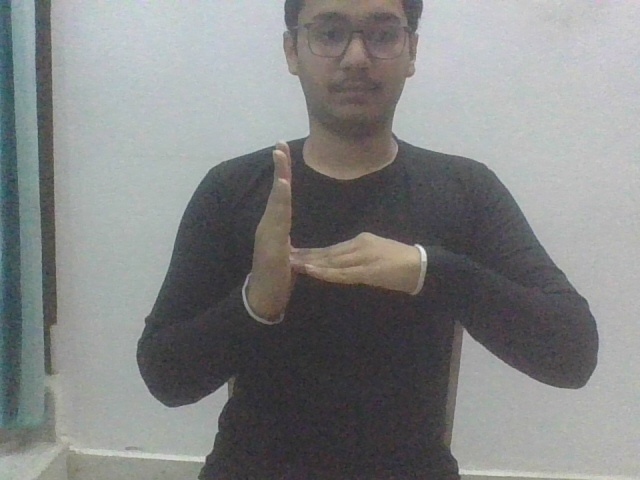Z: (237, 136, 427, 325)
